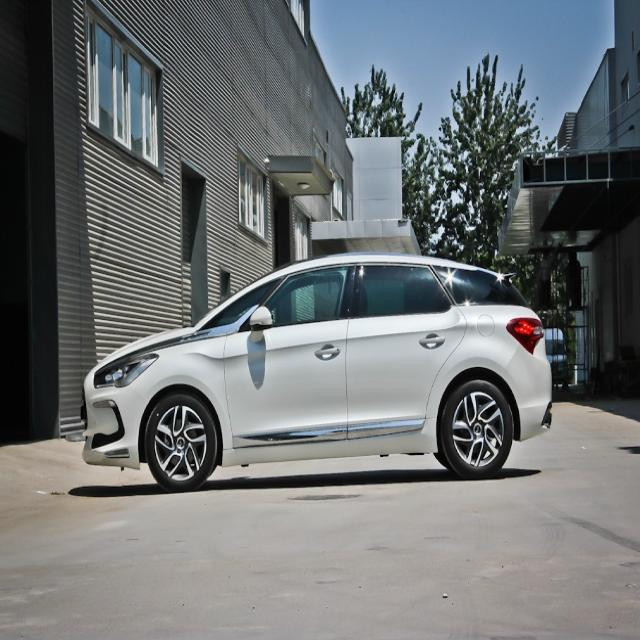back_left_side_light: (506, 317, 546, 355)
door: (350, 264, 470, 442)
front_bumper: (81, 372, 146, 472)
front_left_side_door: (222, 260, 359, 451)
front_left_side_light: (92, 351, 160, 388)
front_left_side_mirror: (249, 304, 273, 346)
rear_bumper: (503, 343, 553, 442)
wheel: (439, 379, 514, 478), (145, 394, 217, 491)
